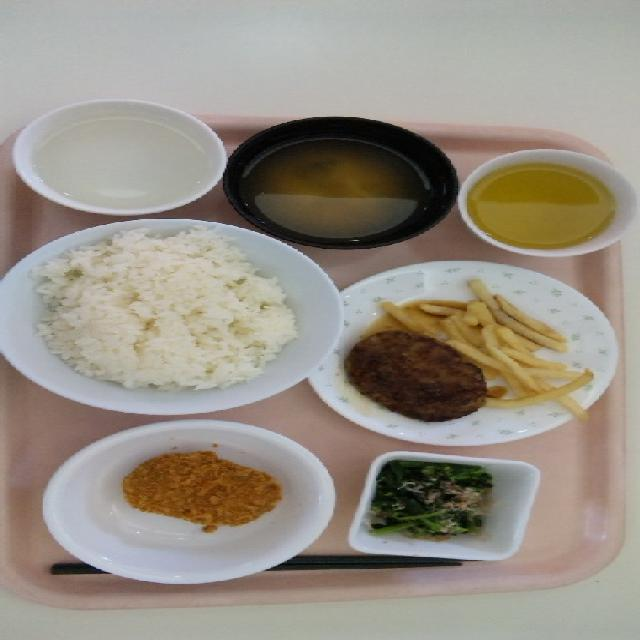Rice: (0, 231, 317, 395)
